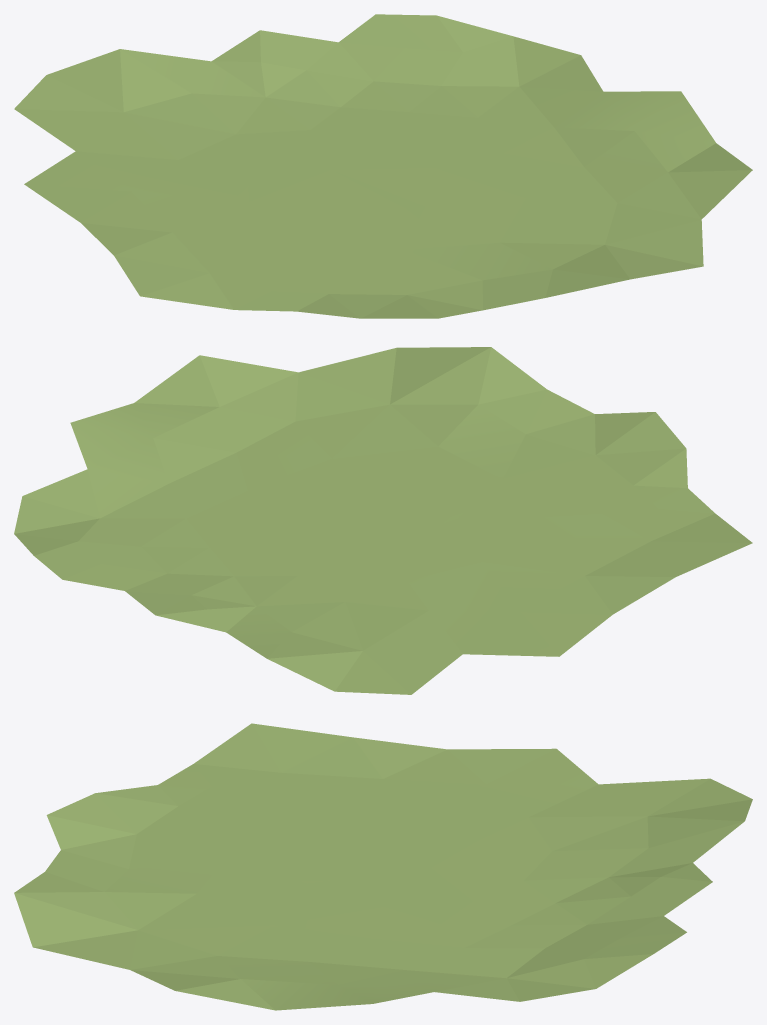
The model's file is campfireHub-nav.glb.
The picture shows the model from 3 angles, top to bottom: view 1: azimuth 30°, elevation 25°; view 2: azimuth 150°, elevation 25°; view 3: azimuth 270°, elevation 25°; orthographic projection. The views are drawn at different scales.
Parts seen in each view (by area): view 1: CPT_Mountain_L_b_20.002; view 2: CPT_Mountain_L_b_20.002; view 3: CPT_Mountain_L_b_20.002.
Part boxes in pixels (box(x1,y1,x2,y2)): CPT_Mountain_L_b_20.002: box(14, 14, 752, 318); CPT_Mountain_L_b_20.002: box(14, 347, 752, 694); CPT_Mountain_L_b_20.002: box(14, 723, 752, 1010).
Bounding box in the file's own units: 1.82 × 0.0652 × 1.93.
